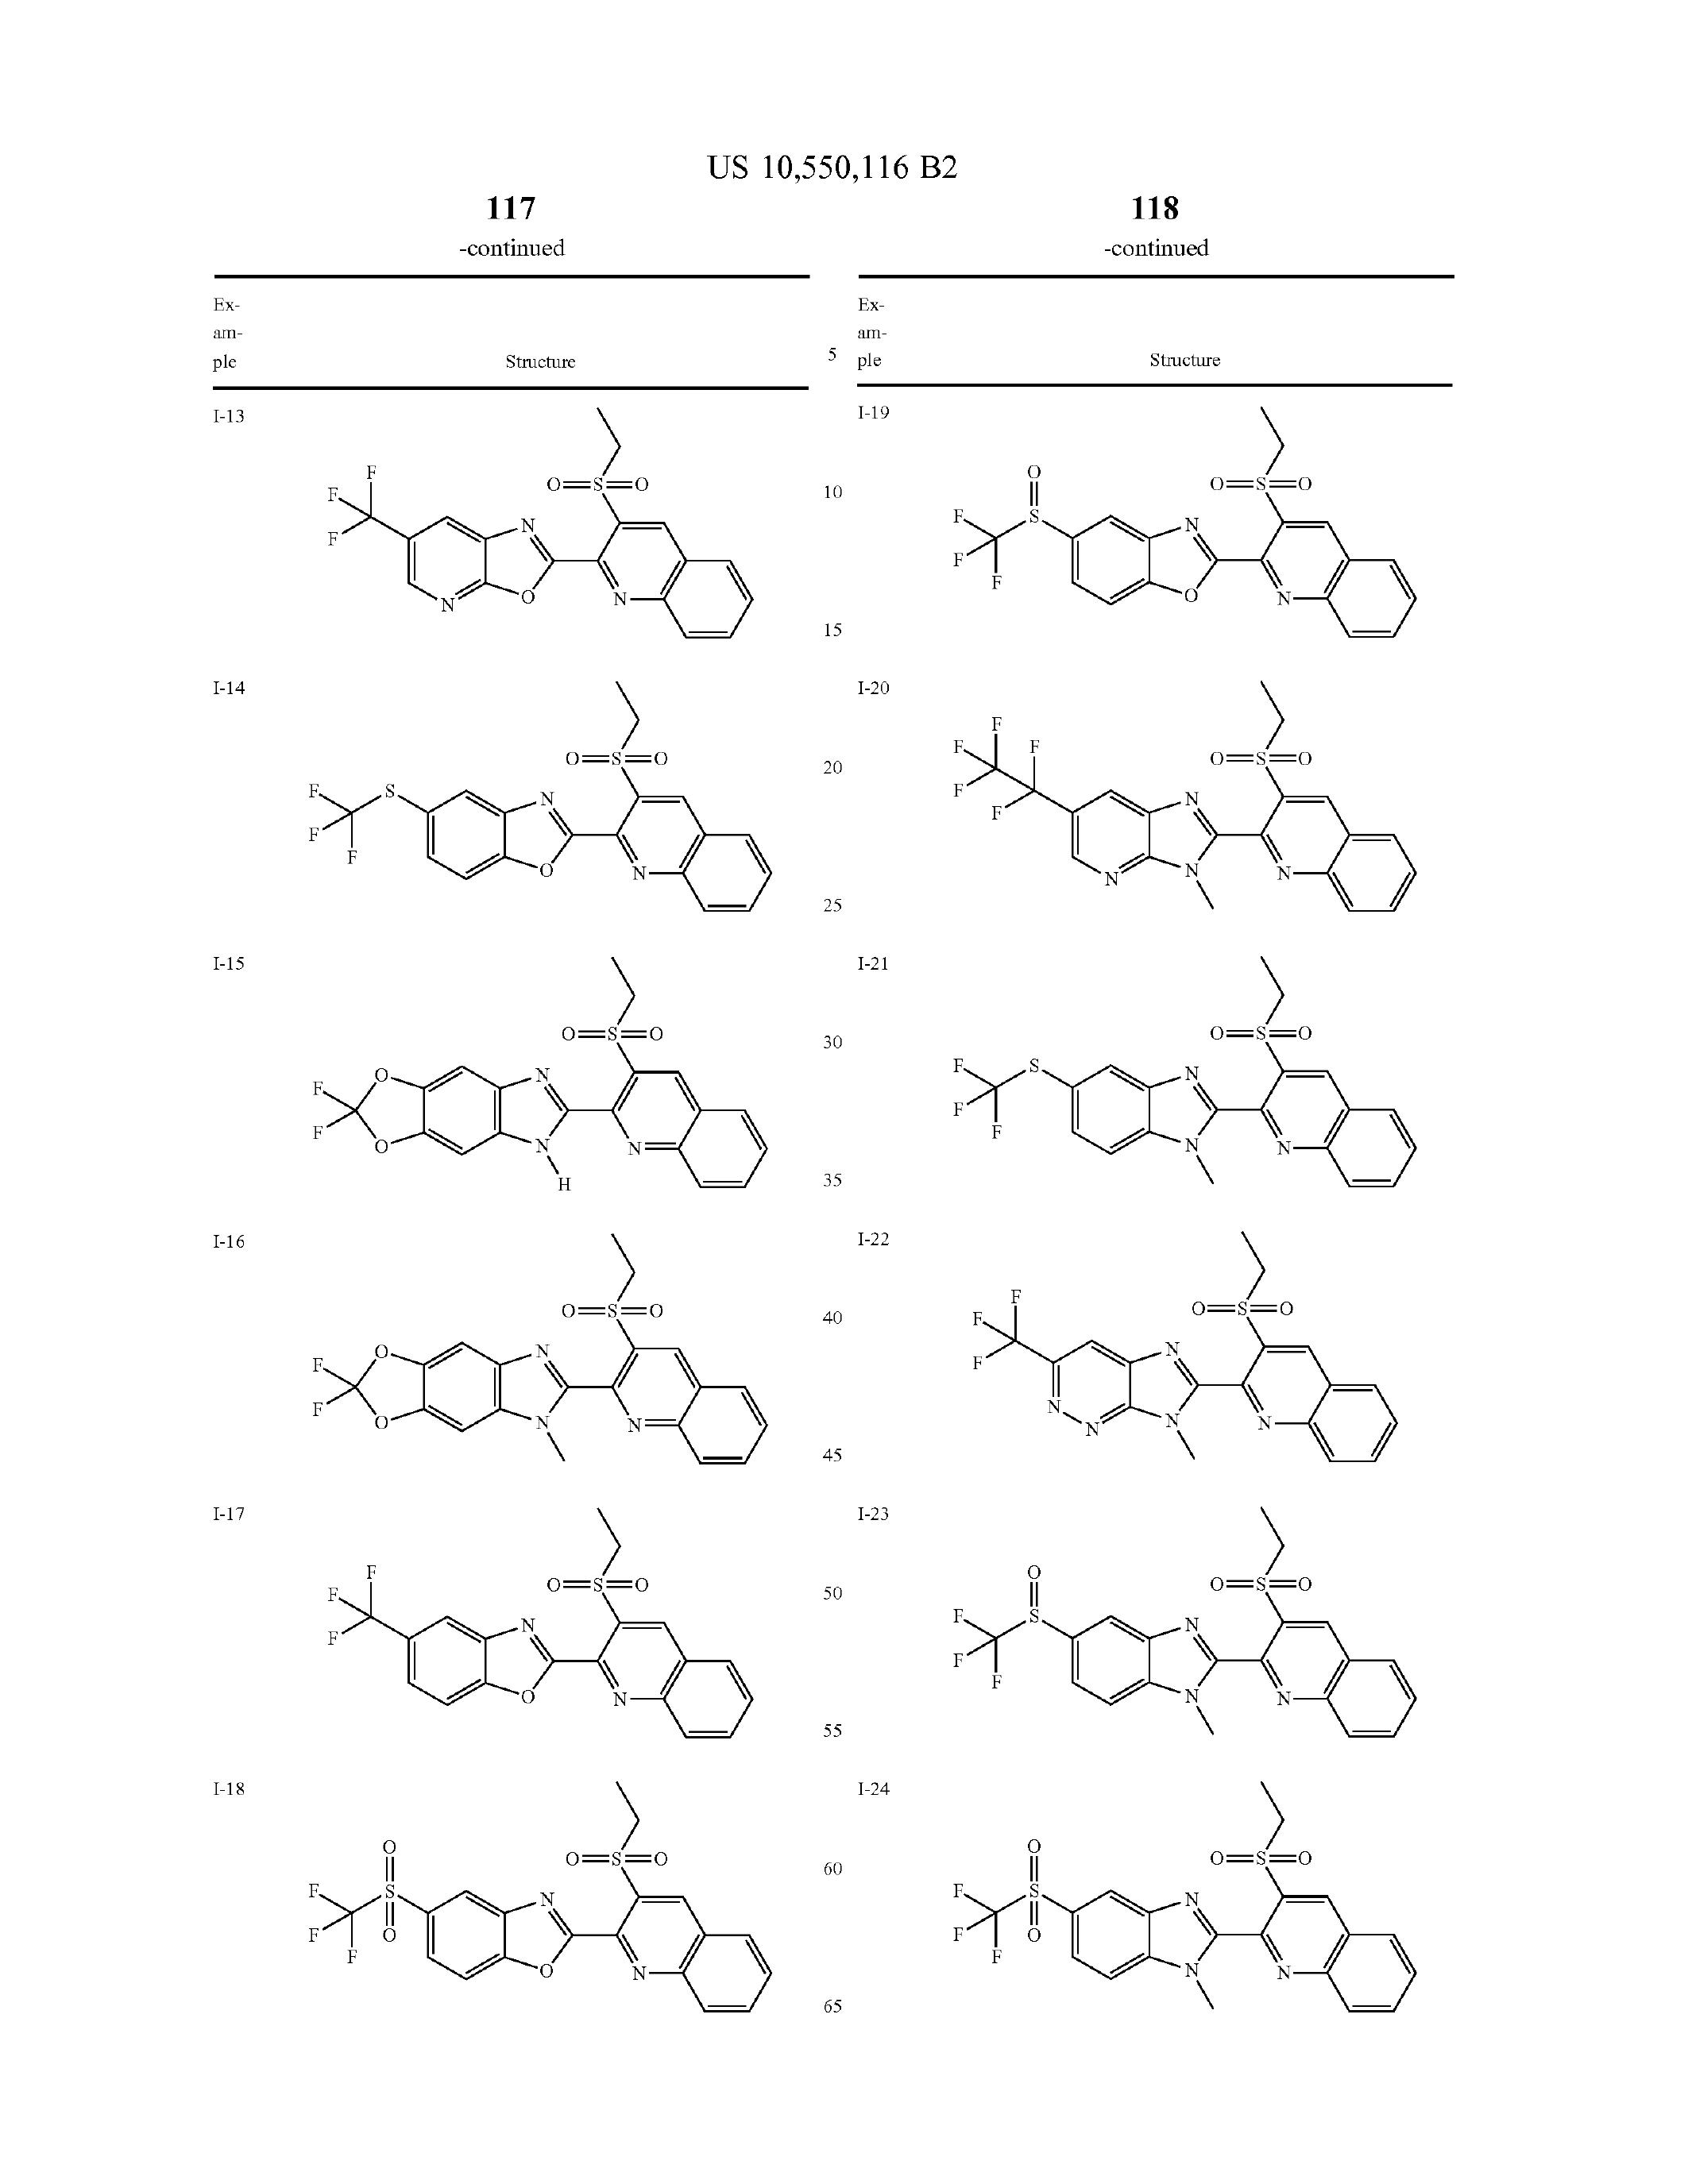relevant-structures: (262, 682, 805, 943), (261, 1244, 823, 1493), (268, 968, 801, 1220), (287, 404, 789, 672), (305, 1509, 787, 1778), (942, 682, 1472, 918), (920, 1516, 1447, 1746), (936, 418, 1466, 645), (314, 1789, 809, 2030), (940, 1237, 1440, 1473), (934, 1789, 1443, 2017), (947, 970, 1443, 1186)
